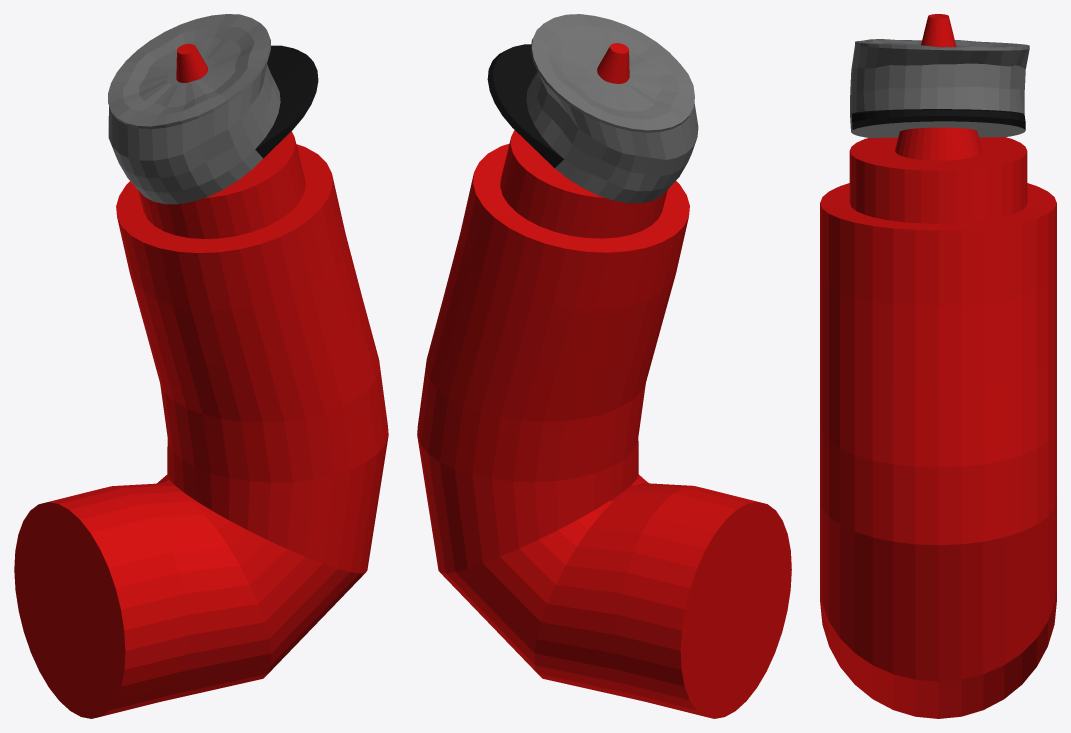
Rendered from KetchupBottleCrying.fbx.
3 renders of one model, left to right at view 1: azimuth 30°, elevation 25°; view 2: azimuth 150°, elevation 25°; view 3: azimuth 270°, elevation 25°, orthographic. The views are drawn at different scales.
Parts seen in each view (by area): view 1: Bottle, Hat; view 2: Bottle, Hat; view 3: Bottle, Hat.
Boxes of the visible parts, <box> form: Bottle: <box>14,43,388,718</box>; Hat: <box>108,14,318,204</box>; Bottle: <box>417,43,791,718</box>; Hat: <box>487,14,698,203</box>; Bottle: <box>820,14,1056,718</box>; Hat: <box>850,39,1029,137</box>.
Size of the model in its own units: 317 by 638 by 200.
